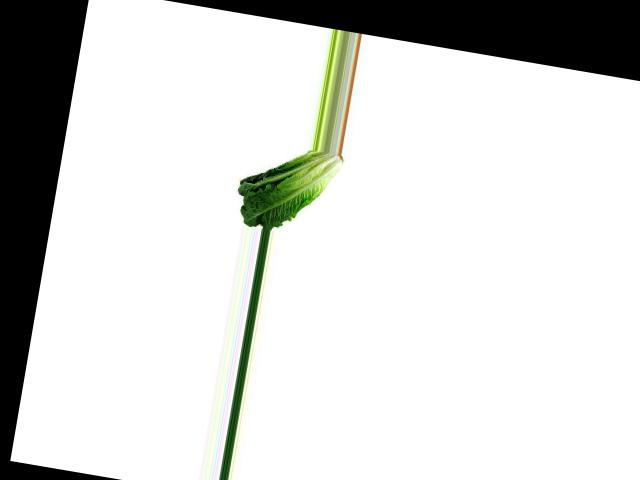lettuce: (231, 138, 345, 239)
